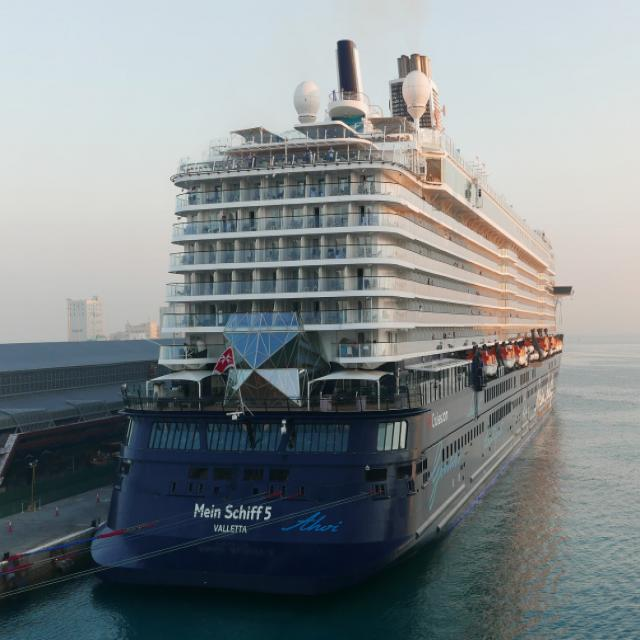cruises: (89, 35, 570, 608)
